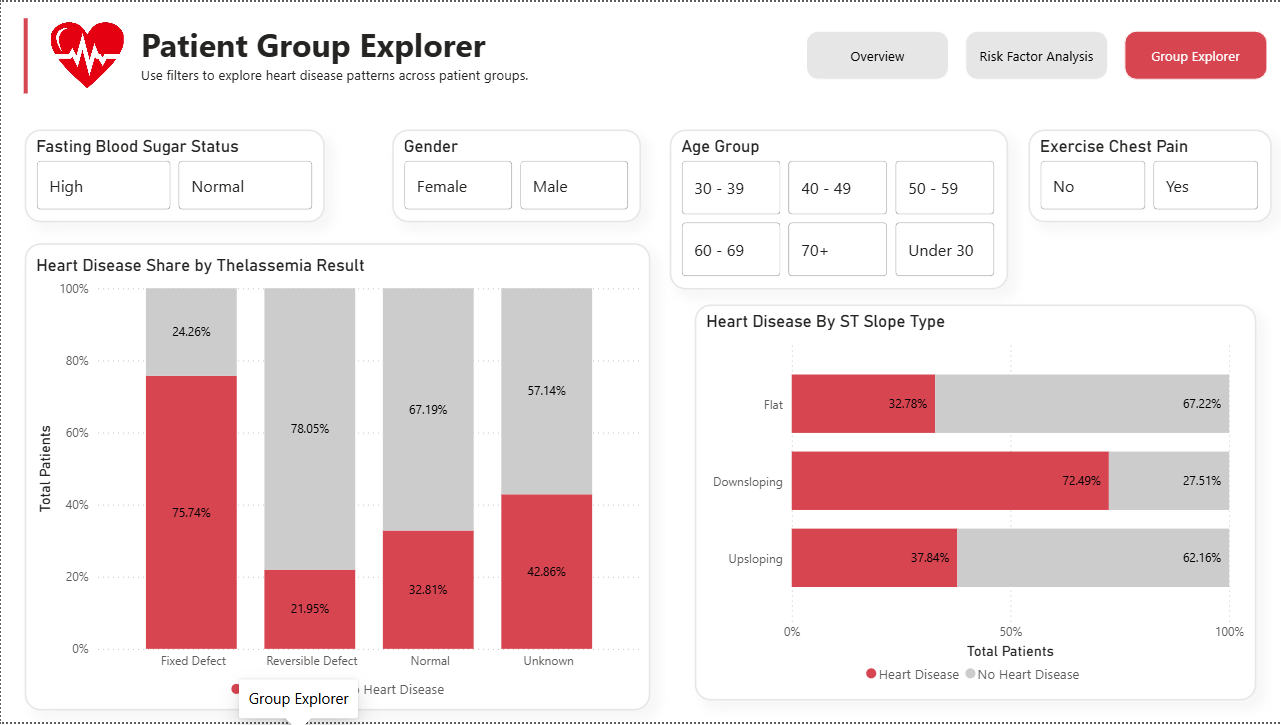

Layout of this report page (visuals, bound fields, positions):
{"tool":"powerbi","page":{"name":"Group Explorer","canvas":[1280,720],"ordinal":2},"visuals":[{"type":"pageNavigator","box":[805.5,28.8,463.8,49.4],"z":0},{"type":"shape","box":[0,16.5,49.4,75.5],"z":1000},{"type":"textbox","box":[134.5,16.5,583.2,75.5],"z":2000},{"type":"image","box":[49.4,16.5,72.7,75.5],"z":3000},{"type":"advancedSlicerVisual","fields":{"Values":["Cardio Heart Dashboard.Age Group"]},"box":[668.6,127.1,338.6,160],"z":4000},{"type":"advancedSlicerVisual","fields":{"Values":["Cardio Heart Dashboard.Gender"]},"box":[391.4,127.1,248.6,92.9],"z":5000},{"type":"advancedSlicerVisual","fields":{"Values":["Cardio Heart Dashboard.Exercise Chest Pain"]},"box":[1027.1,127.1,242.9,92.9],"z":6000},{"type":"hundredPercentStackedColumnChart","title":"Heart Disease Share by Thelassemia Result","fields":{"Category":["Cardio Heart Dashboard.Thelassemia Result"],"Y":["Cardio Heart Dashboard.Total Patients"],"Series":["Cardio Heart Dashboard.Heart Disease Status"]},"box":[24.3,241.4,625.7,467.1],"z":7000},{"type":"hundredPercentStackedBarChart","title":"Heart Disease By ST Slope Type","fields":{"Category":["Cardio Heart Dashboard.ST Slope Type"],"Y":["Cardio Heart Dashboard.Total Patients"],"Series":["Cardio Heart Dashboard.Heart Disease Status"]},"box":[694.3,302.9,561.4,395.7],"z":8000},{"type":"advancedSlicerVisual","fields":{"Values":["Cardio Heart Dashboard.Fasting Blood Sugar Status"]},"box":[24.3,127.1,300,92.9],"z":9000}]}

Visuals, with their boxes in screenshot pixels (x1, y1, x2, y2), scaled from the page's 1280x720 canvas onto the 1281x725 screenshot:
pageNavigator: box=[806, 29, 1270, 79]
shape: box=[0, 17, 49, 93]
textbox: box=[135, 17, 718, 93]
image: box=[49, 17, 122, 93]
advancedSlicerVisual - Cardio Heart Dashboard.Age Group: box=[669, 128, 1008, 289]
advancedSlicerVisual - Cardio Heart Dashboard.Gender: box=[392, 128, 640, 222]
advancedSlicerVisual - Cardio Heart Dashboard.Exercise Chest Pain: box=[1028, 128, 1271, 222]
"Heart Disease Share by Thelassemia Result" hundredPercentStackedColumnChart: box=[24, 243, 651, 713]
"Heart Disease By ST Slope Type" hundredPercentStackedBarChart: box=[695, 305, 1257, 703]
advancedSlicerVisual - Cardio Heart Dashboard.Fasting Blood Sugar Status: box=[24, 128, 325, 222]
